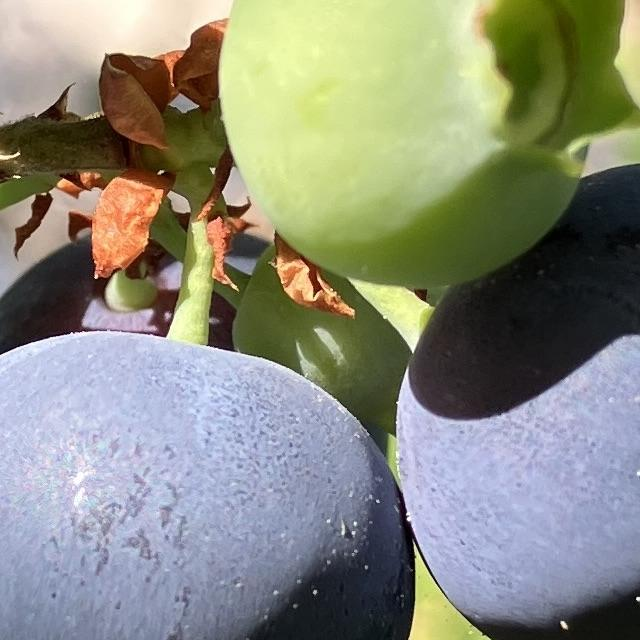Blueberries: (0, 324, 415, 640), (213, 0, 640, 293), (390, 157, 640, 640)
